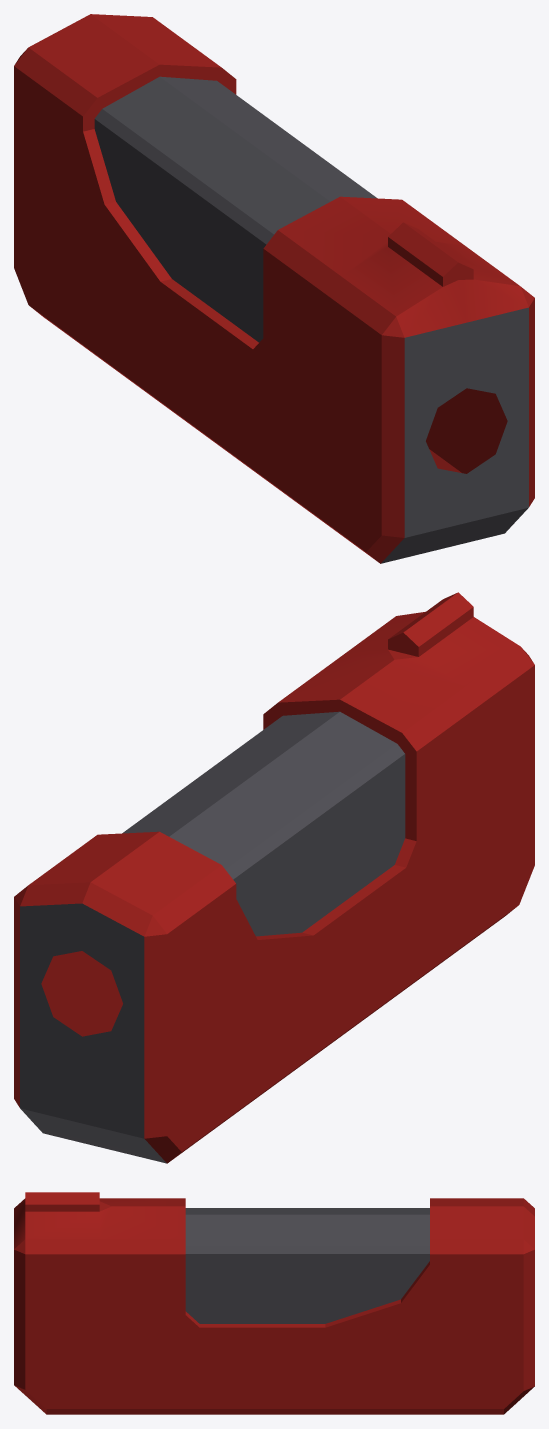
Rendered from Msh_Base_A_V5.FBX.
The picture shows the model from 3 angles, top to bottom: view 1: azimuth 30°, elevation 25°; view 2: azimuth 150°, elevation 25°; view 3: azimuth 270°, elevation 25°; orthographic projection. The views are drawn at different scales.
Visible parts, largest first — view 1: Msh_Base_AV5; view 2: Msh_Base_AV5; view 3: Msh_Base_AV5.
Boxes of the visible parts, x1,y1,x2,y2 form: Msh_Base_AV5: [14, 14, 534, 563]; Msh_Base_AV5: [14, 592, 534, 1163]; Msh_Base_AV5: [14, 1192, 534, 1414].
Bounding box in the file's own units: 0.0508 × 0.2208 × 0.0943.
